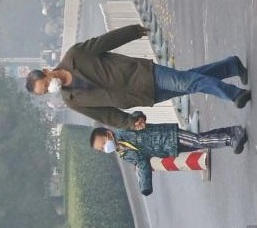person: (27, 26, 251, 127), (88, 110, 248, 199), (40, 20, 64, 37), (41, 3, 65, 18), (37, 49, 64, 61), (40, 40, 63, 50)
